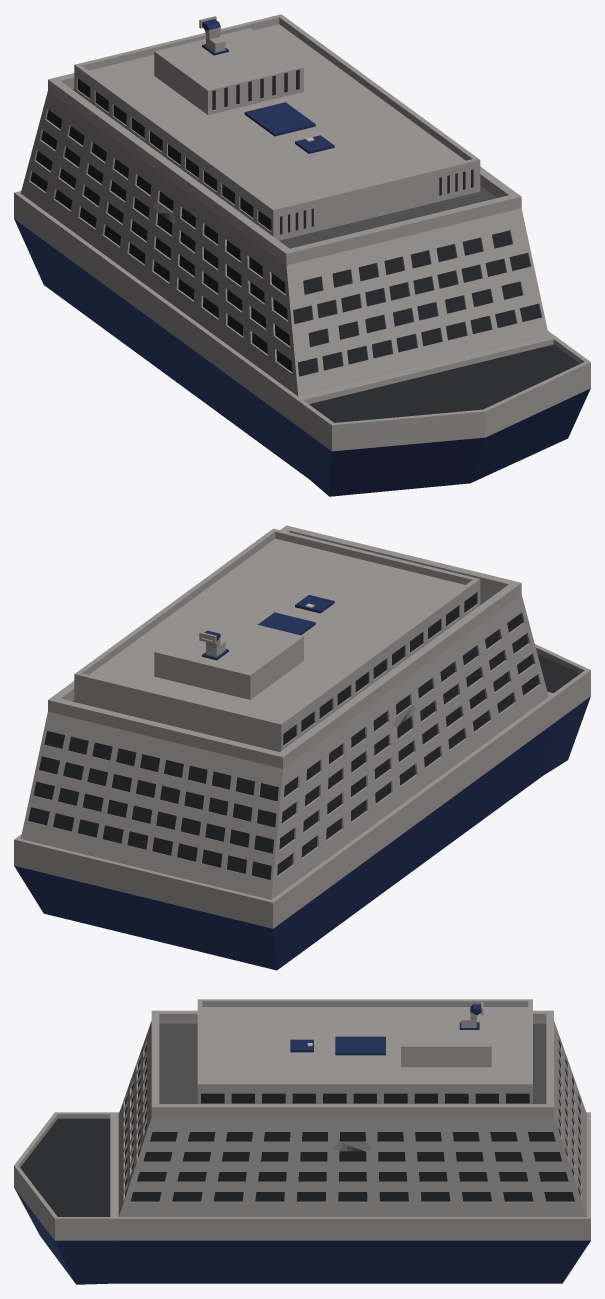
File: Cruiser_1.fbx
The picture shows the model from 3 angles, top to bottom: view 1: azimuth 30°, elevation 25°; view 2: azimuth 150°, elevation 25°; view 3: azimuth 270°, elevation 25°; orthographic projection. The views are drawn at different scales.
Visible parts, largest first — view 1: Cruiser_1; view 2: Cruiser_1; view 3: Cruiser_1.
Part boxes in pixels (box(x1,y1,x2,y2)): Cruiser_1: box(14, 14, 590, 496); Cruiser_1: box(14, 525, 590, 970); Cruiser_1: box(14, 999, 590, 1284).
Size of the model in its own units: 1065 by 1072 by 2435.
